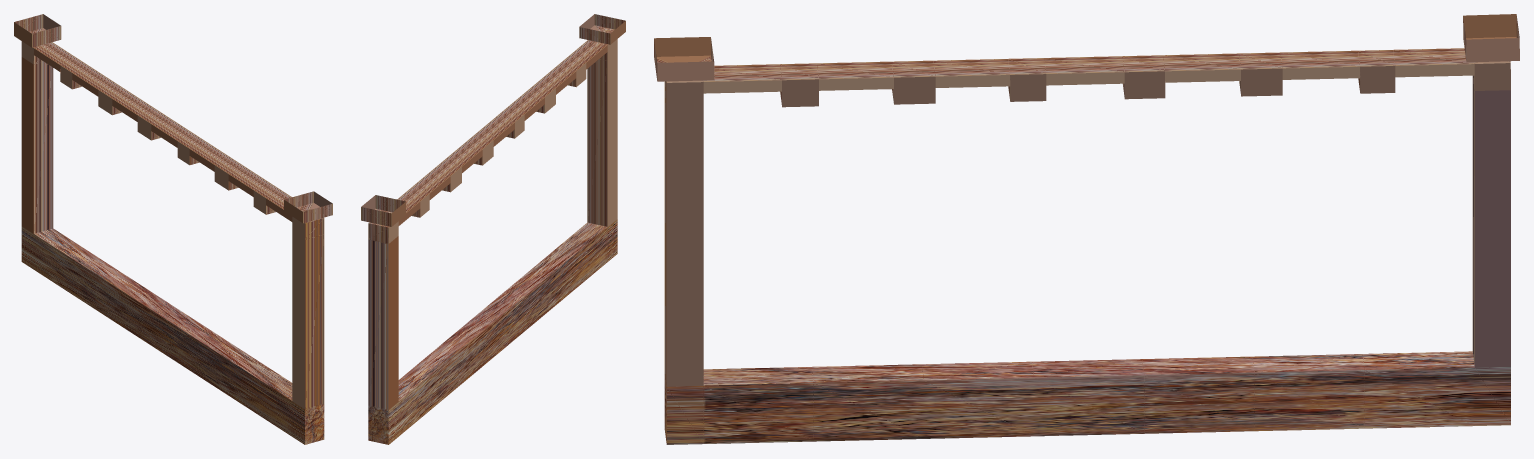
The model's file is cube.025_lev3.glb.
3 views of the same model, side by side, from view 1: azimuth 30°, elevation 25°; view 2: azimuth 150°, elevation 25°; view 3: azimuth 270°, elevation 25° (orthographic). The views are drawn at different scales.
Visible parts, largest first — view 1: cube.025_lev3; view 2: cube.025_lev3; view 3: cube.025_lev3.
Boxes of the visible parts, <box> form: cube.025_lev3: <box>14,14,332,444</box>; cube.025_lev3: <box>361,14,625,444</box>; cube.025_lev3: <box>654,14,1519,444</box>.
Size of the model in its own units: 0.1248 by 0.511 by 1.03.
Materials: 1 (1 with a texture image).
